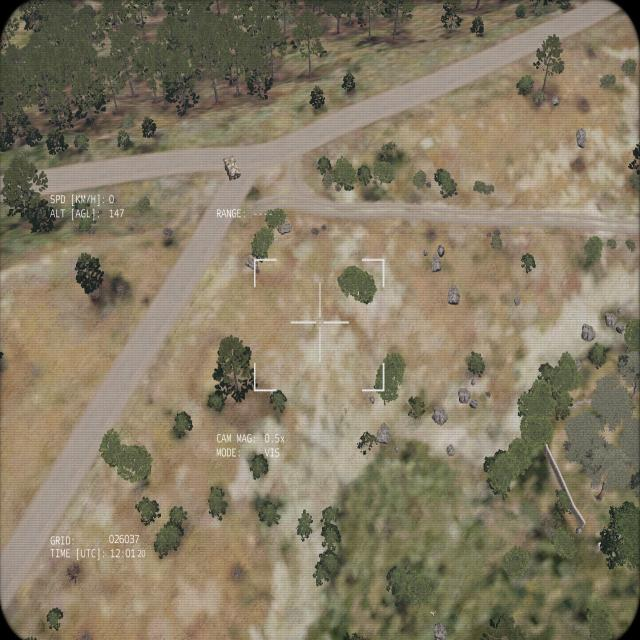apc: (222, 152, 241, 179)
